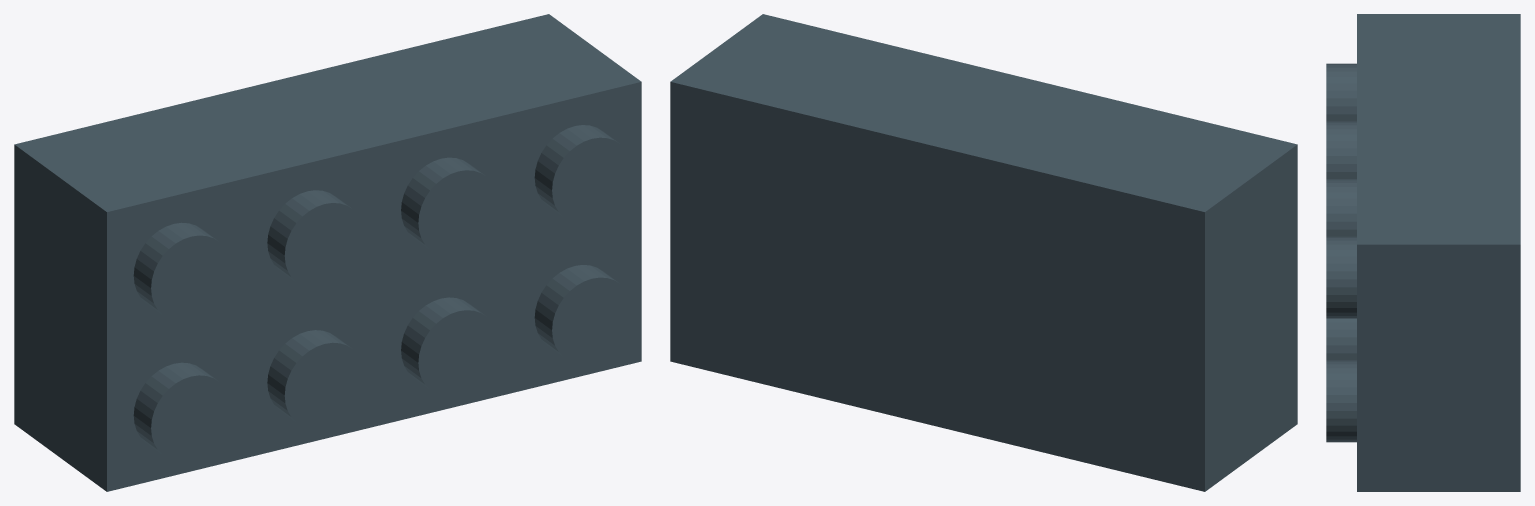
Rendered from brick_4.glb.
3 renders of one model, left to right at view 1: azimuth 30°, elevation 25°; view 2: azimuth 150°, elevation 25°; view 3: azimuth 270°, elevation 25°, orthographic. The views are drawn at different scales.
Visible parts, largest first — view 1: world; view 2: world; view 3: world.
Part boxes in pixels (<box>): world: <box>14,14,641,491</box>; world: <box>670,14,1297,491</box>; world: <box>1326,14,1520,491</box>.
Size of the model in its own units: 32 by 16 by 11.4.
